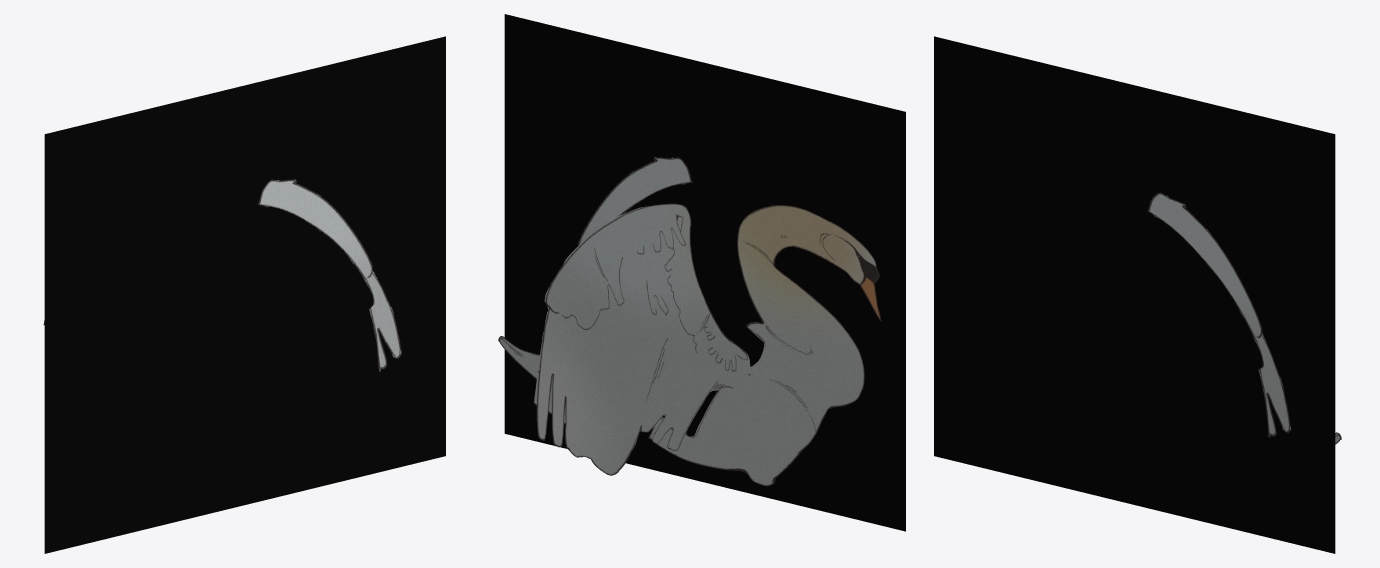
Rendered from swan.fbx.
3 views of the same model, side by side, from view 1: azimuth 30°, elevation 25°; view 2: azimuth 150°, elevation 25°; view 3: azimuth 330°, elevation 25° (orthographic).
Visible parts, largest first — view 1: Swan; view 2: Swan; view 3: Swan.
Boxes of the visible parts, <box> form: Swan: <box>43,36,445,553</box>; Swan: <box>498,14,905,531</box>; Swan: <box>934,36,1341,553</box>.
Size of the model in its own units: 233 by 233 by 30.81.
